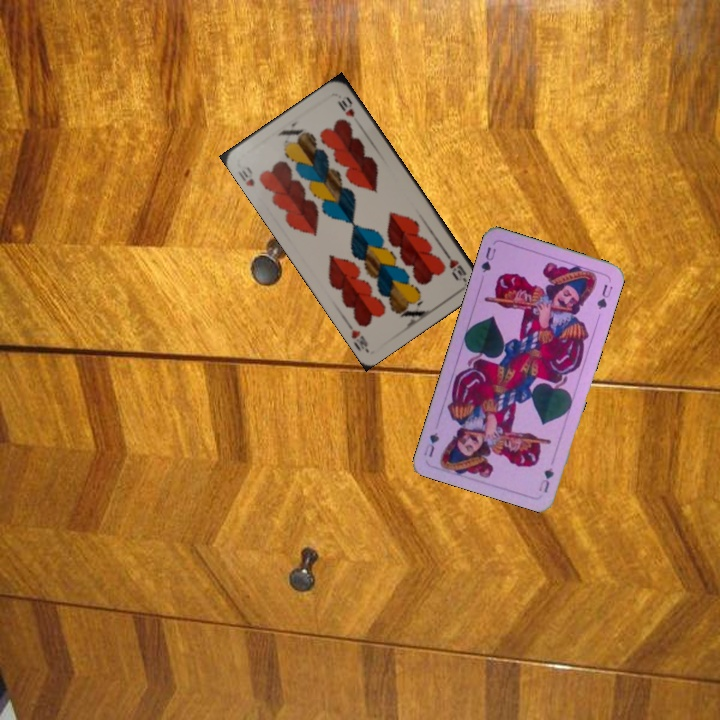GU: (477, 243, 499, 275), (535, 464, 557, 495)
H10: (440, 248, 469, 284), (234, 163, 257, 189)
